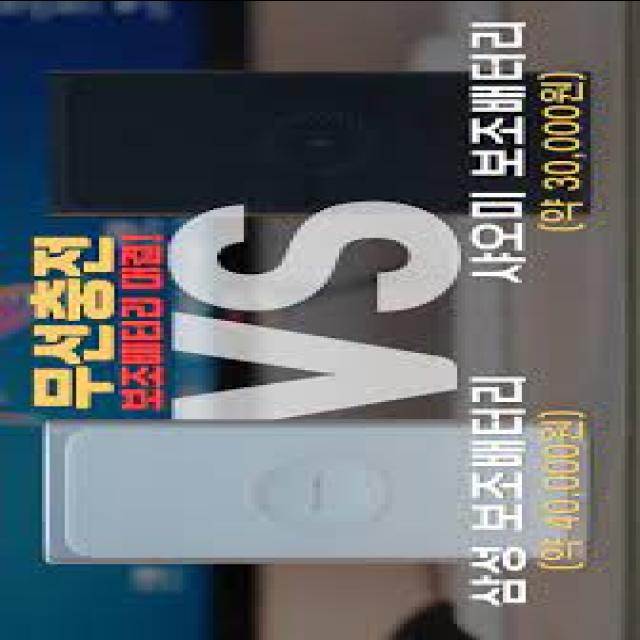portable-charger: (38, 416, 596, 567), (38, 66, 590, 218)
